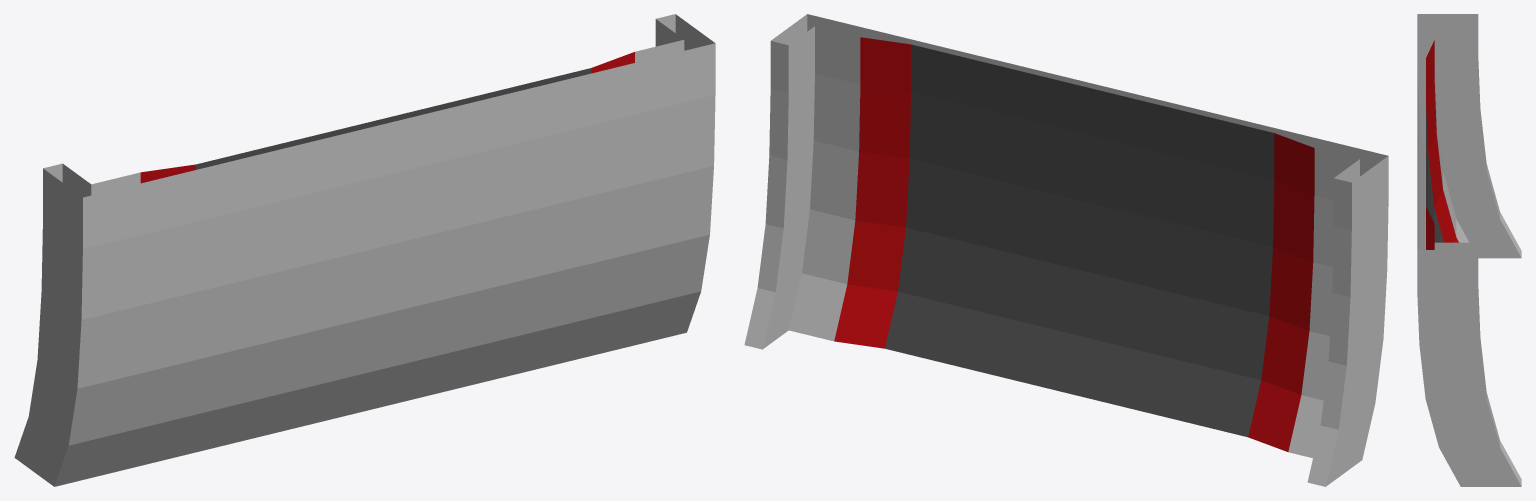
Rendered from Transition_Up_Pitch2.fbx.
3 views of the same model, side by side, from view 1: azimuth 30°, elevation 25°; view 2: azimuth 150°, elevation 25°; view 3: azimuth 270°, elevation 25° (orthographic). The views are drawn at different scales.
Visible parts, largest first — view 1: Transition_Up_Pitch2; view 2: Transition_Up_Pitch2; view 3: Transition_Up_Pitch2.
Part boxes in pixels (left/top/right/bottom): Transition_Up_Pitch2: left=14, top=14, right=715, bottom=486; Transition_Up_Pitch2: left=744, top=14, right=1388, bottom=486; Transition_Up_Pitch2: left=1417, top=14, right=1521, bottom=486.
Bounding box in the file's own units: 1280 × 600 × 240.
